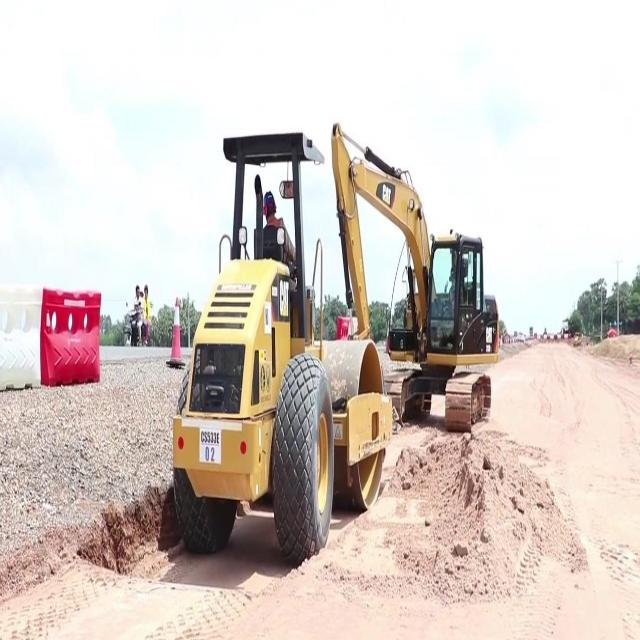Excavator: (329, 122, 497, 434)
Roller: (170, 134, 389, 564)
